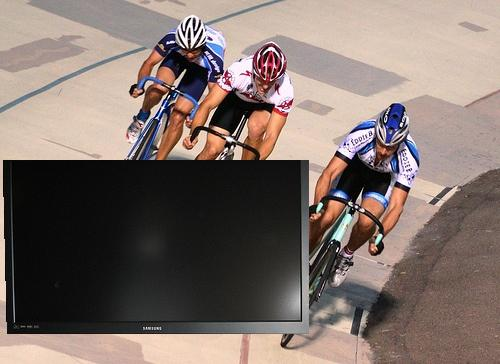tampered: (4, 161, 309, 334)
